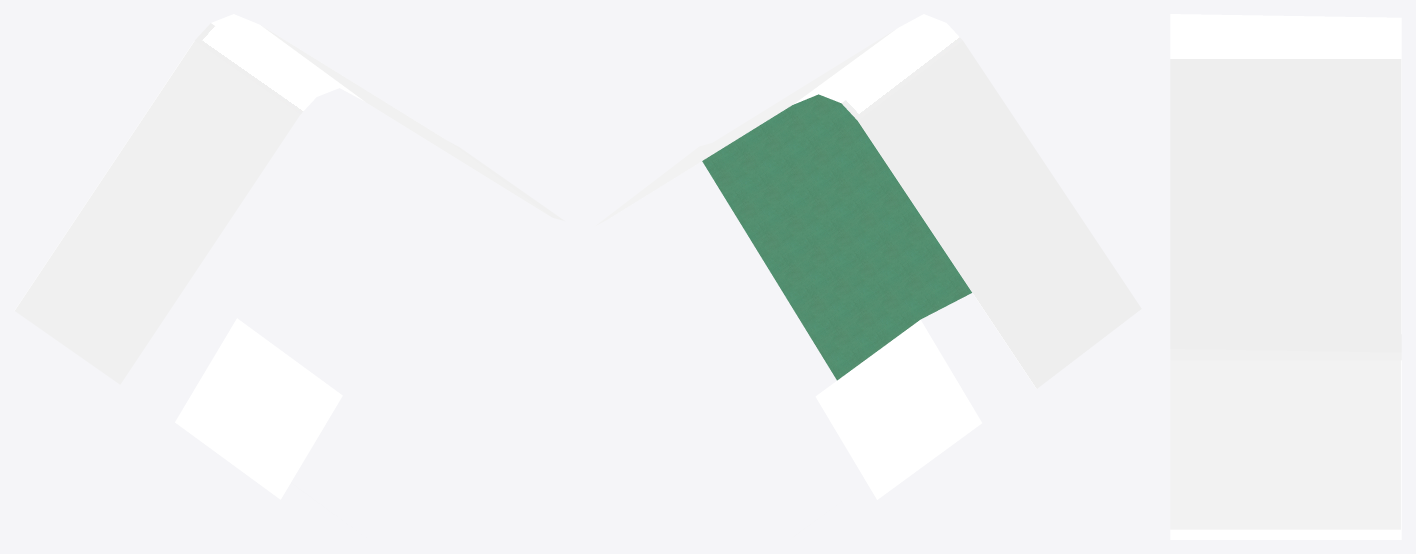
The picture shows the model from 3 angles, left to right: view 1: azimuth 30°, elevation 25°; view 2: azimuth 150°, elevation 25°; view 3: azimuth 270°, elevation 25°; orthographic projection. The views are drawn at different scales.
Visible parts, largest first — view 1: BuildingMaster_2015193807604462125400000000_0; view 2: BuildingMaster_2015193807604462125400000000_0, BuildingMaster_2015193807604462125400000000_1; view 3: BuildingMaster_2015193807604462125400000000_0.
Part boxes in pixels (x1=…): BuildingMaster_2015193807604462125400000000_0: x1=14, y1=14, x2=564, y2=499; BuildingMaster_2015193807604462125400000000_0: x1=596, y1=14, x2=1141, y2=536; BuildingMaster_2015193807604462125400000000_1: x1=702, y1=94, x2=971, y2=380; BuildingMaster_2015193807604462125400000000_0: x1=1170, y1=14, x2=1401, y2=539.
Bounding box in the file's own units: 34 × 33.5 × 14.
